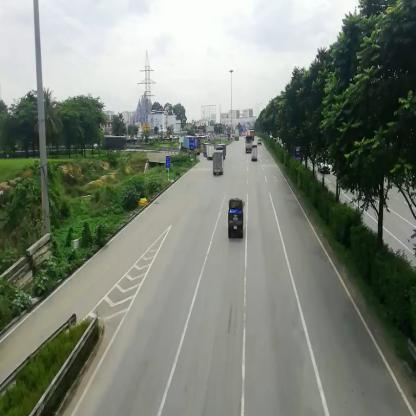container: (102, 136, 128, 152), (179, 138, 200, 151)
truck: (229, 199, 245, 240), (214, 151, 224, 177), (252, 145, 260, 163), (247, 136, 254, 153), (208, 143, 215, 159)
